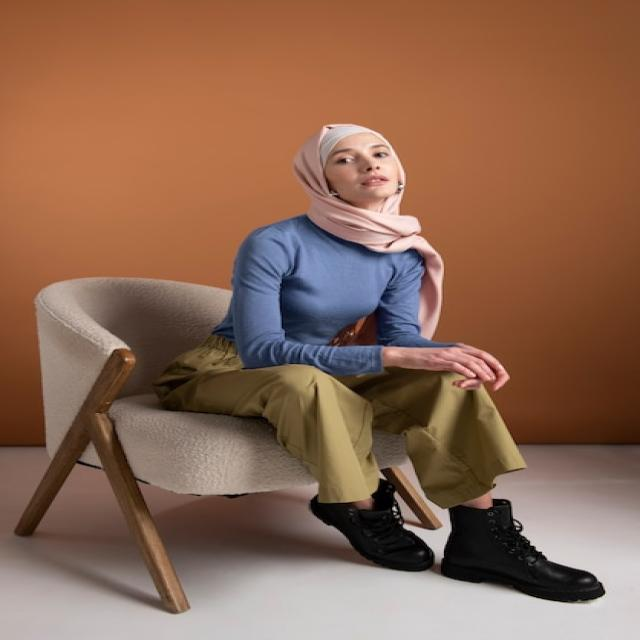Person: (159, 124, 605, 602)
